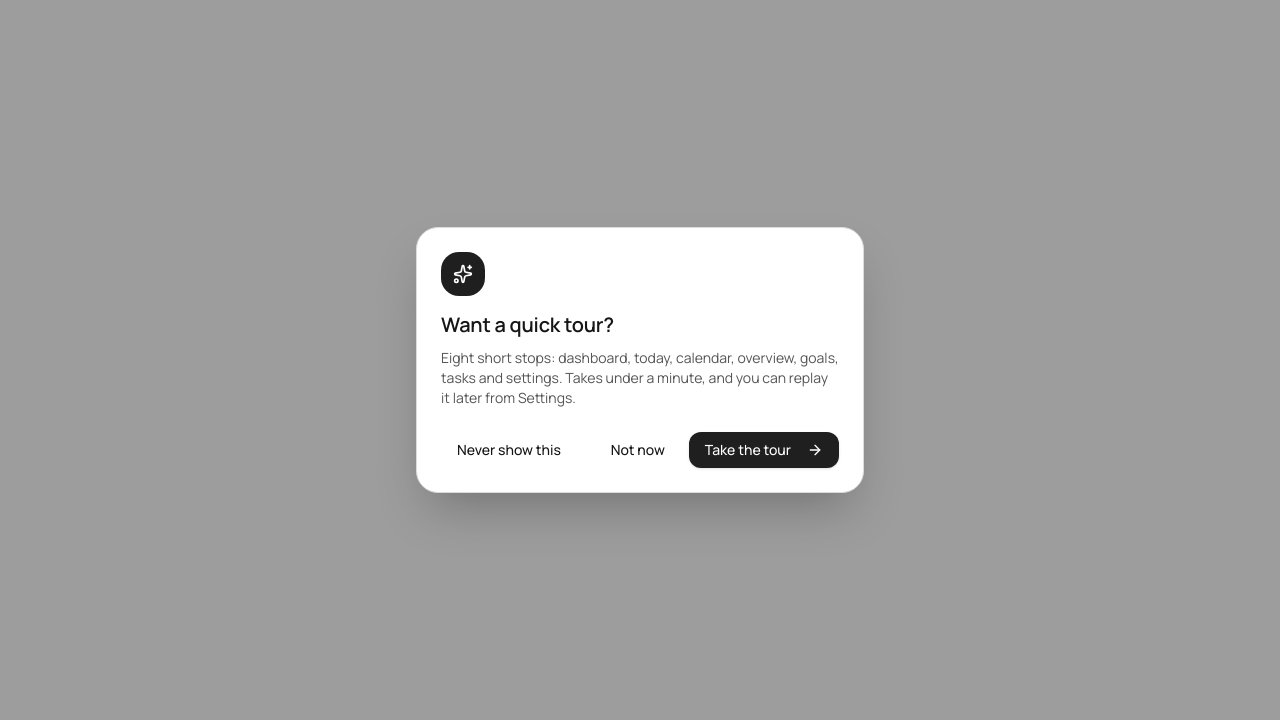
Test: Product tour › Next moves from dashboard intro to Rank
Click the button "Take the tour". click: point(764, 450)
box: [689,432,839,468]
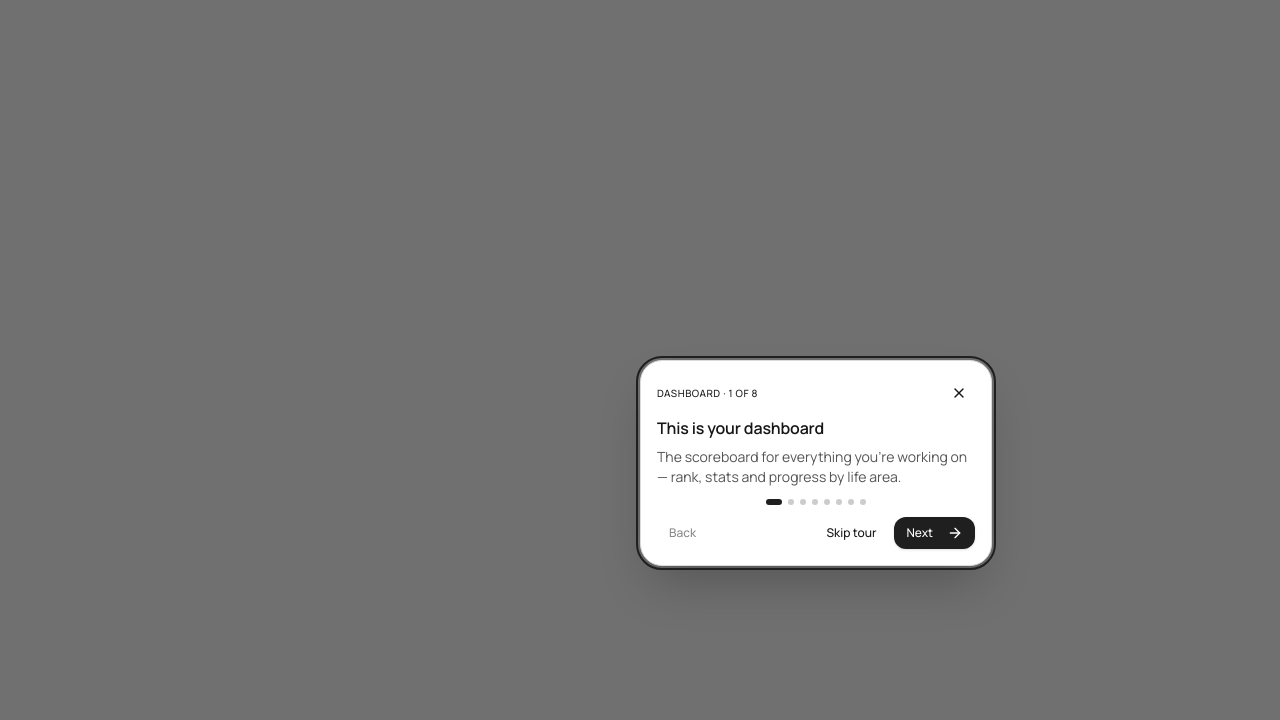
Click the button "Next". click: point(935, 533)
box: [894,517,975,549]
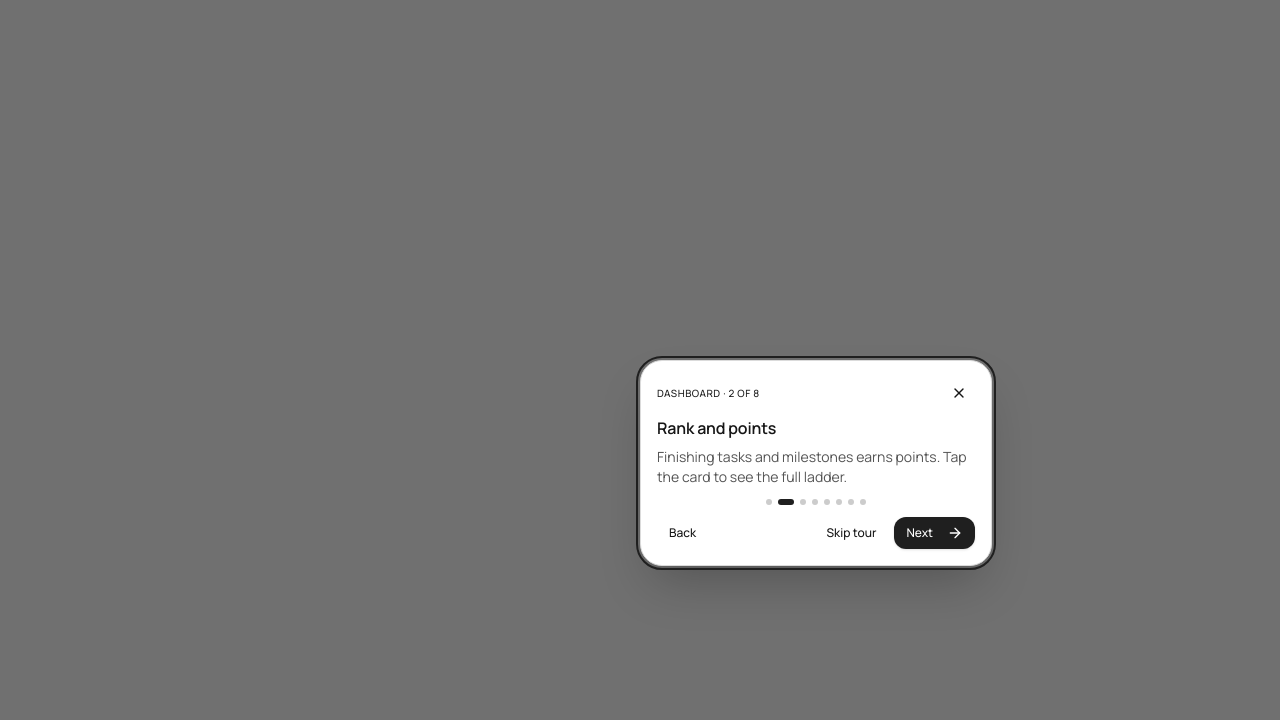
Check: the heading "Rank and points" is shown, box [657,418,776,439]
Check: the text "Dashboard · 2 of 8" is shown, box [657,386,760,400]
